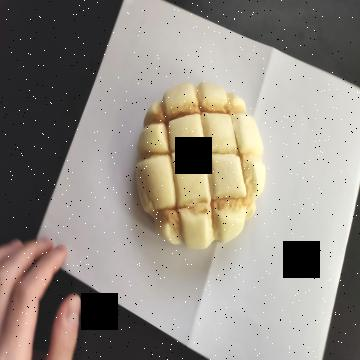melon_bread: (134, 80, 266, 252)
